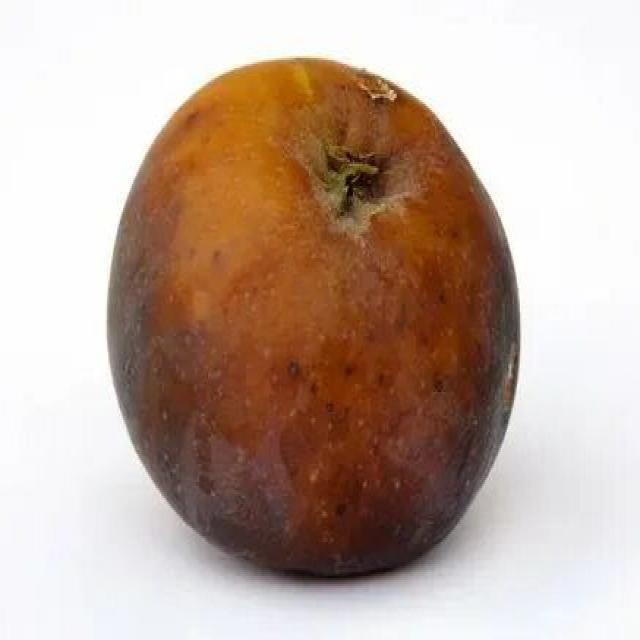Rotten: (96, 54, 518, 570)
